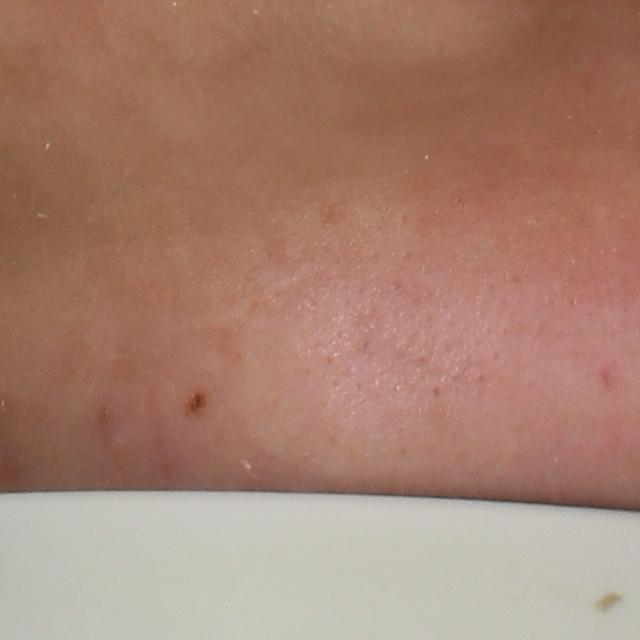comedo: (104, 434, 127, 456)
nevus: (184, 389, 214, 419)
